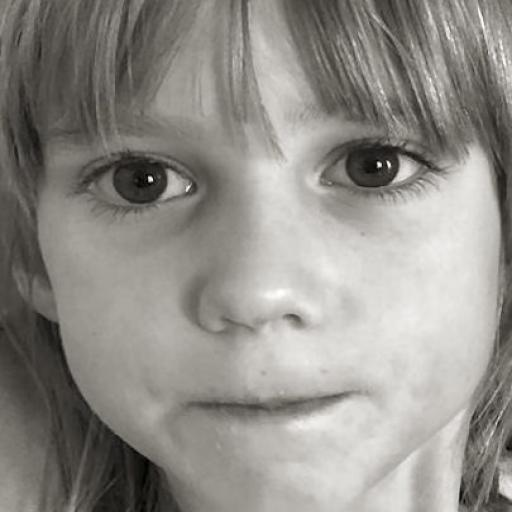Autism: (7, 7, 512, 478)
